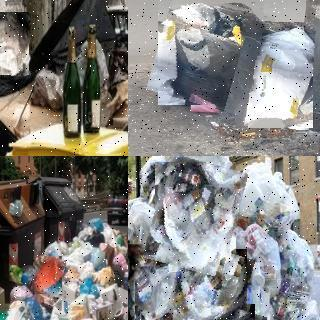Garbage: (151, 0, 269, 111), (149, 158, 242, 274), (237, 21, 315, 129), (170, 245, 251, 320), (232, 156, 305, 233), (128, 244, 185, 320), (268, 225, 320, 304), (232, 219, 284, 297), (165, 156, 233, 190), (128, 196, 162, 253), (0, 11, 30, 75), (234, 288, 285, 320), (271, 289, 320, 320), (31, 255, 64, 296), (4, 299, 33, 320)
